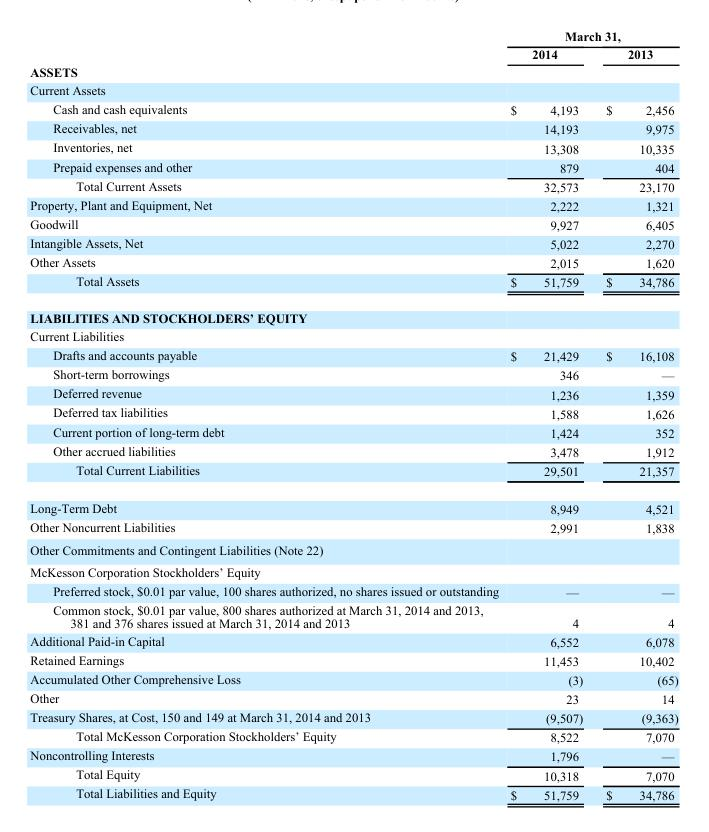table: (29, 29, 677, 801)
table column: (29, 29, 503, 801), (503, 29, 593, 801), (593, 29, 677, 801)
table column header: (29, 29, 677, 62)
table projected row header: (29, 299, 677, 326), (29, 538, 677, 560), (29, 560, 677, 581), (29, 80, 677, 99), (29, 326, 677, 345), (29, 62, 677, 80)
table row: (29, 600, 677, 631), (29, 460, 677, 489), (29, 271, 677, 299), (29, 489, 677, 517), (29, 299, 677, 326), (29, 538, 677, 560), (29, 517, 677, 538), (29, 560, 677, 581), (29, 99, 677, 119), (29, 364, 677, 384), (29, 745, 677, 765), (29, 80, 677, 99), (29, 119, 677, 138), (29, 138, 677, 157), (29, 157, 677, 176), (29, 176, 677, 195), (29, 195, 677, 214), (29, 214, 677, 233), (29, 233, 677, 252), (29, 252, 677, 271), (29, 326, 677, 345), (29, 345, 677, 364), (29, 384, 677, 403), (29, 403, 677, 422), (29, 422, 677, 441), (29, 441, 677, 460), (29, 581, 677, 600), (29, 631, 677, 650), (29, 650, 677, 669), (29, 669, 677, 688), (29, 688, 677, 707), (29, 707, 677, 726), (29, 726, 677, 745), (29, 765, 677, 784), (29, 62, 677, 80), (29, 45, 677, 62), (29, 784, 677, 801), (29, 29, 677, 45)
table spanning cell: (503, 29, 677, 45)
